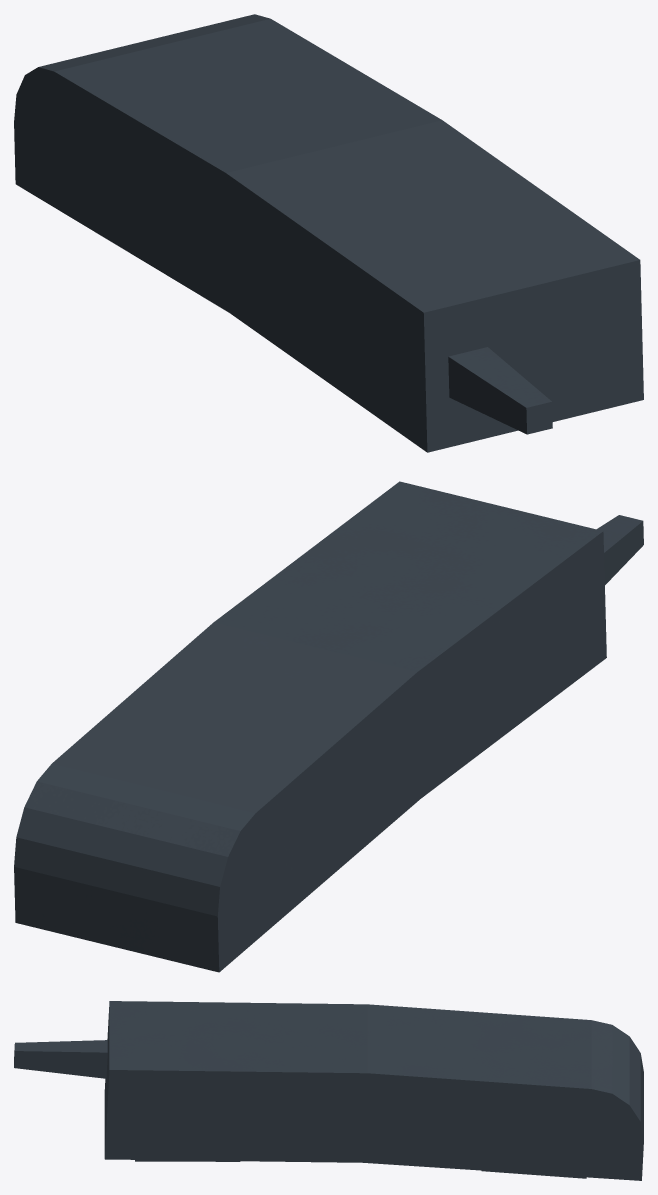
Rendered from 05_phone_b.glb.
The picture shows the model from 3 angles, top to bottom: view 1: azimuth 30°, elevation 25°; view 2: azimuth 150°, elevation 25°; view 3: azimuth 270°, elevation 25°; orthographic projection. The views are drawn at different scales.
Parts seen in each view (by area): view 1: Phone_B; view 2: Phone_B; view 3: Phone_B.
Part boxes in pixels (x1,y1,x2,y2): Phone_B: (14,14,643,452); Phone_B: (14,481,643,972); Phone_B: (14,1001,643,1180).
Size of the model in its own units: 0.078 by 0.0629 by 0.3012.
Materials: 1 (1 with a texture image).
